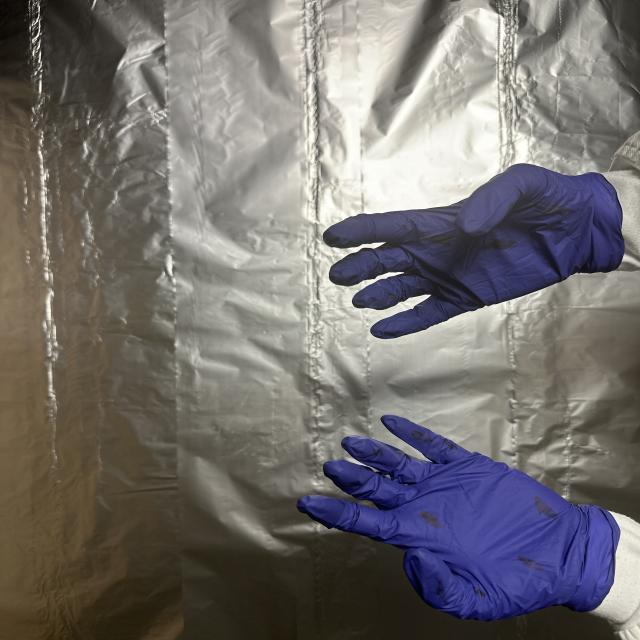gloves_contaminated: (297, 414, 623, 620), (323, 164, 624, 339)
